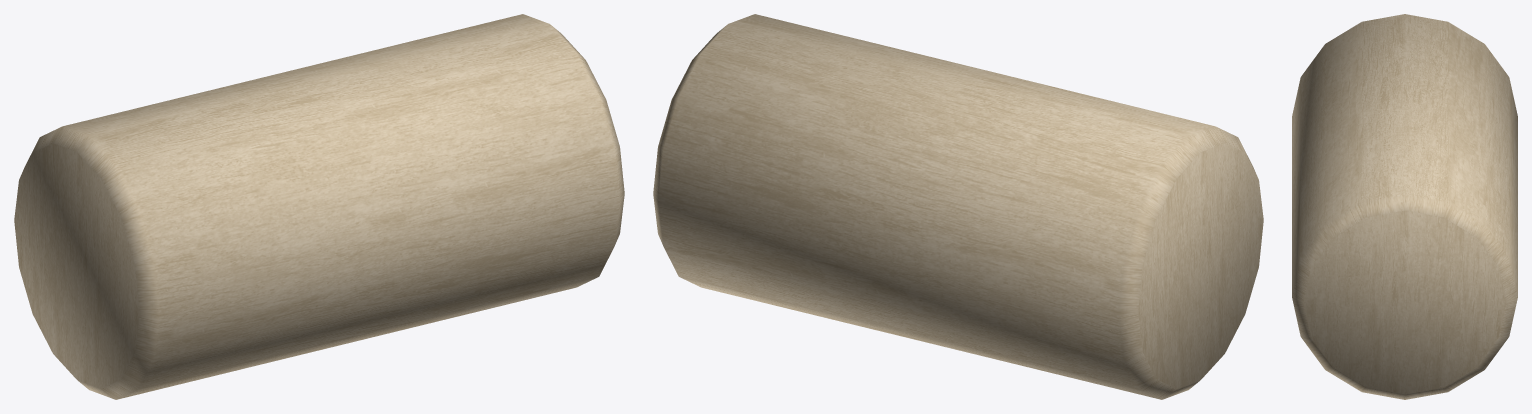
3 renders of one model, left to right at view 1: azimuth 30°, elevation 25°; view 2: azimuth 150°, elevation 25°; view 3: azimuth 270°, elevation 25°, orthographic. The views are drawn at different scales.
Parts seen in each view (by area): view 1: Cylinder; view 2: Cylinder; view 3: Cylinder.
Boxes of the visible parts, x1,y1,x2,y2 form: Cylinder: (14,14,624,399); Cylinder: (653,14,1263,399); Cylinder: (1292,14,1517,399).
Size of the model in its own units: 4 by 2 by 2.
1 material, 1 textured.
